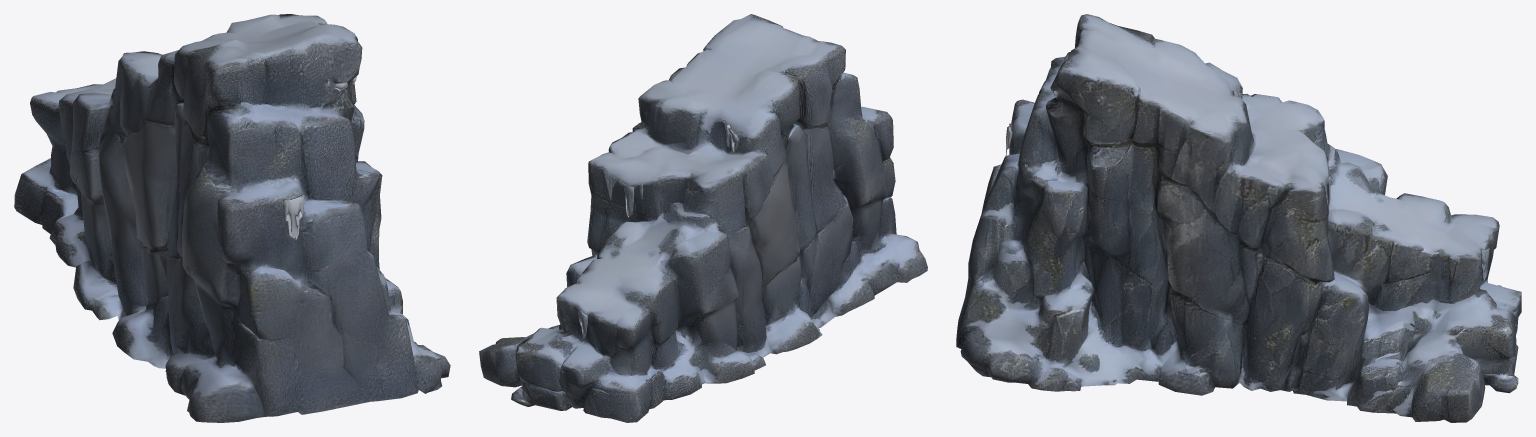
3 views of the same model, side by side, from view 1: azimuth 30°, elevation 25°; view 2: azimuth 150°, elevation 25°; view 3: azimuth 270°, elevation 25° (orthographic). The views are drawn at different scales.
Parts seen in each view (by area): view 1: tripo_node_7c134bb9-2f10-4e92-ae17-591046fc4735; view 2: tripo_node_7c134bb9-2f10-4e92-ae17-591046fc4735; view 3: tripo_node_7c134bb9-2f10-4e92-ae17-591046fc4735.
Part boxes in pixels (bbox=[...]): tripo_node_7c134bb9-2f10-4e92-ae17-591046fc4735: bbox=[14, 14, 450, 422]; tripo_node_7c134bb9-2f10-4e92-ae17-591046fc4735: bbox=[479, 14, 927, 422]; tripo_node_7c134bb9-2f10-4e92-ae17-591046fc4735: bbox=[956, 14, 1521, 422].
Size of the model in its own units: 0.5879 by 0.5957 by 0.998.
1 material, 1 textured.
